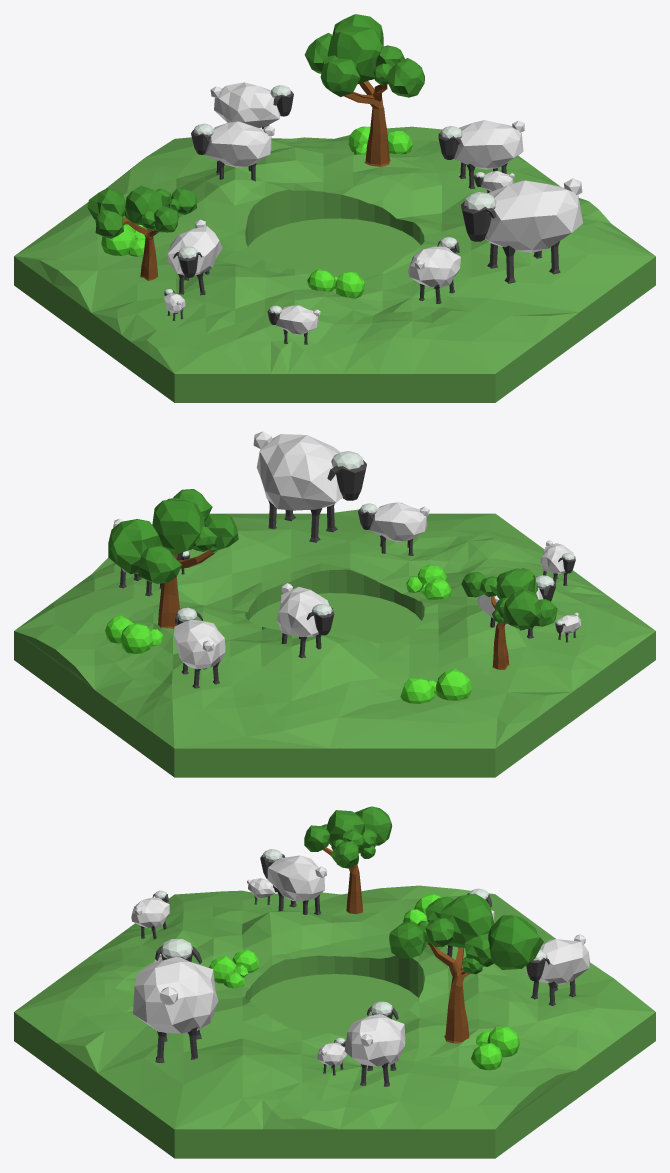
The model's file is sheep.fbx.
3 renders of one model, top to bottom at view 1: azimuth 30°, elevation 25°; view 2: azimuth 150°, elevation 25°; view 3: azimuth 270°, elevation 25°, orthographic.
Parts seen in each view (by area): view 1: Cylinder.032; view 2: Cylinder.032; view 3: Cylinder.032.
Part boxes in pixels (x1=…): Cylinder.032: x1=14, y1=14, x2=655, y2=402; Cylinder.032: x1=14, y1=431, x2=655, y2=777; Cylinder.032: x1=14, y1=806, x2=655, y2=1158.
Bounding box in the file's own units: 173 × 63.46 × 200.
